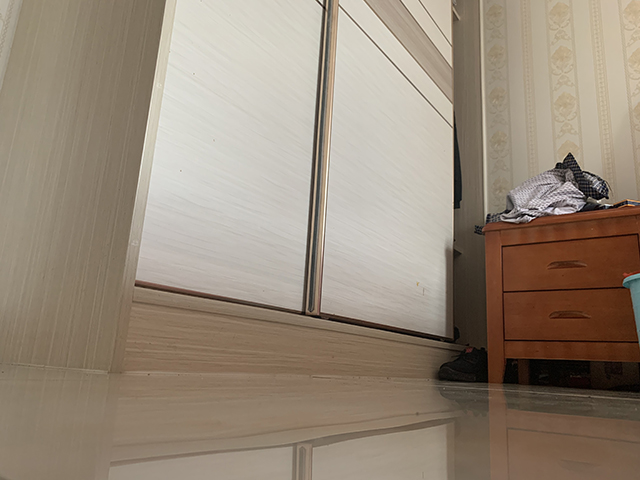cabinet: (1, 1, 489, 383), (481, 205, 640, 387)
